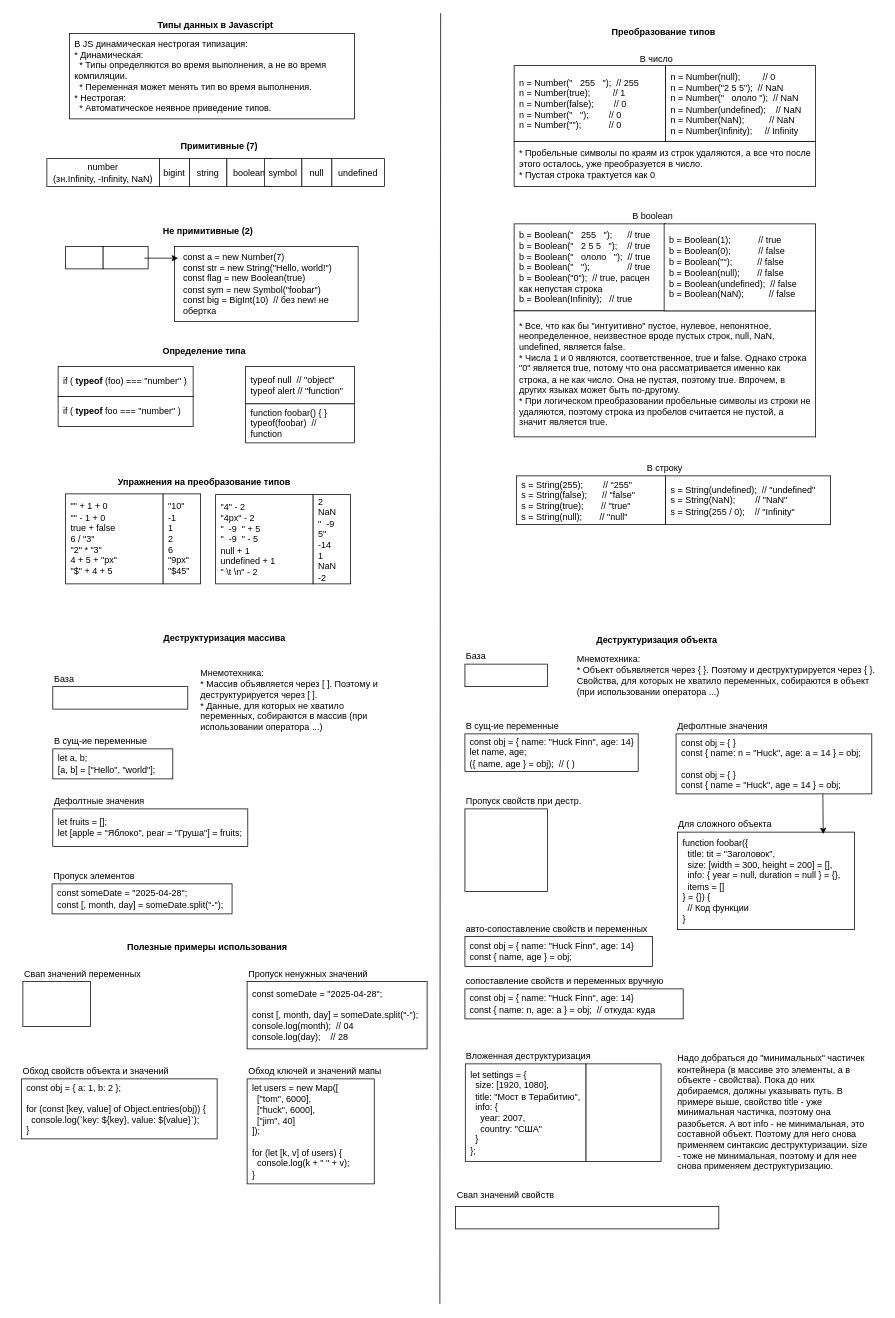
This 895x1318 diagram has some shape labels left out. Each missing label, with the box of its shape:
({ firstname: user.lastname, lastname: user.firstname } = user);: (455, 1206, 719, 1229)
const [a, b] = ["Hello", "world"];: (52, 686, 188, 709)
let user = { name: "Huck", age: 15, state: "Illinois" }; let {state} = user;: (464, 808, 548, 891)
let x = 50; let y = 100; [x, y] = [y, x];: (22, 981, 90, 1026)
let { a, b, c } = obj;: (464, 663, 547, 687)
let { size: [x, y], title, info: { year: g, country } } = settings;: (585, 1063, 661, 1161)
object: (65, 246, 103, 269)
Обертки: (102, 246, 148, 269)
